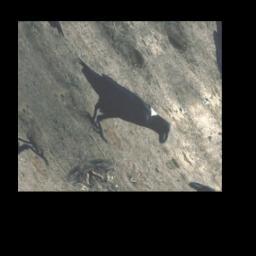Crow: (50, 41, 180, 162)
